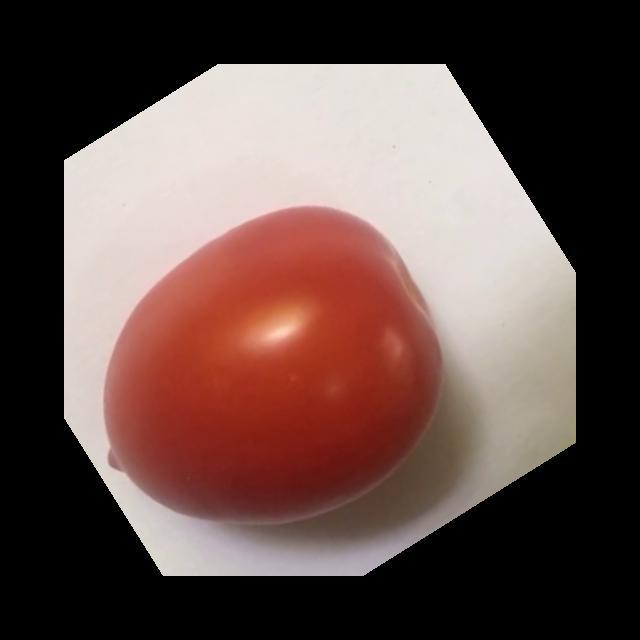tomato: (92, 193, 452, 539)
